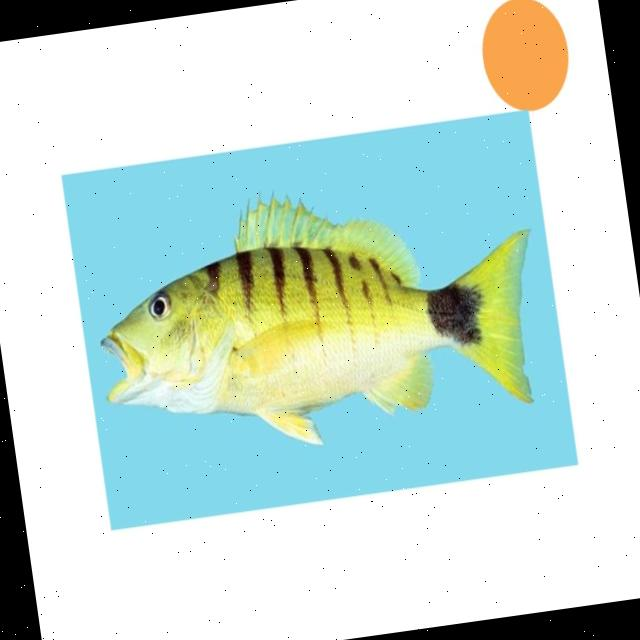ikan: (80, 153, 556, 476)
